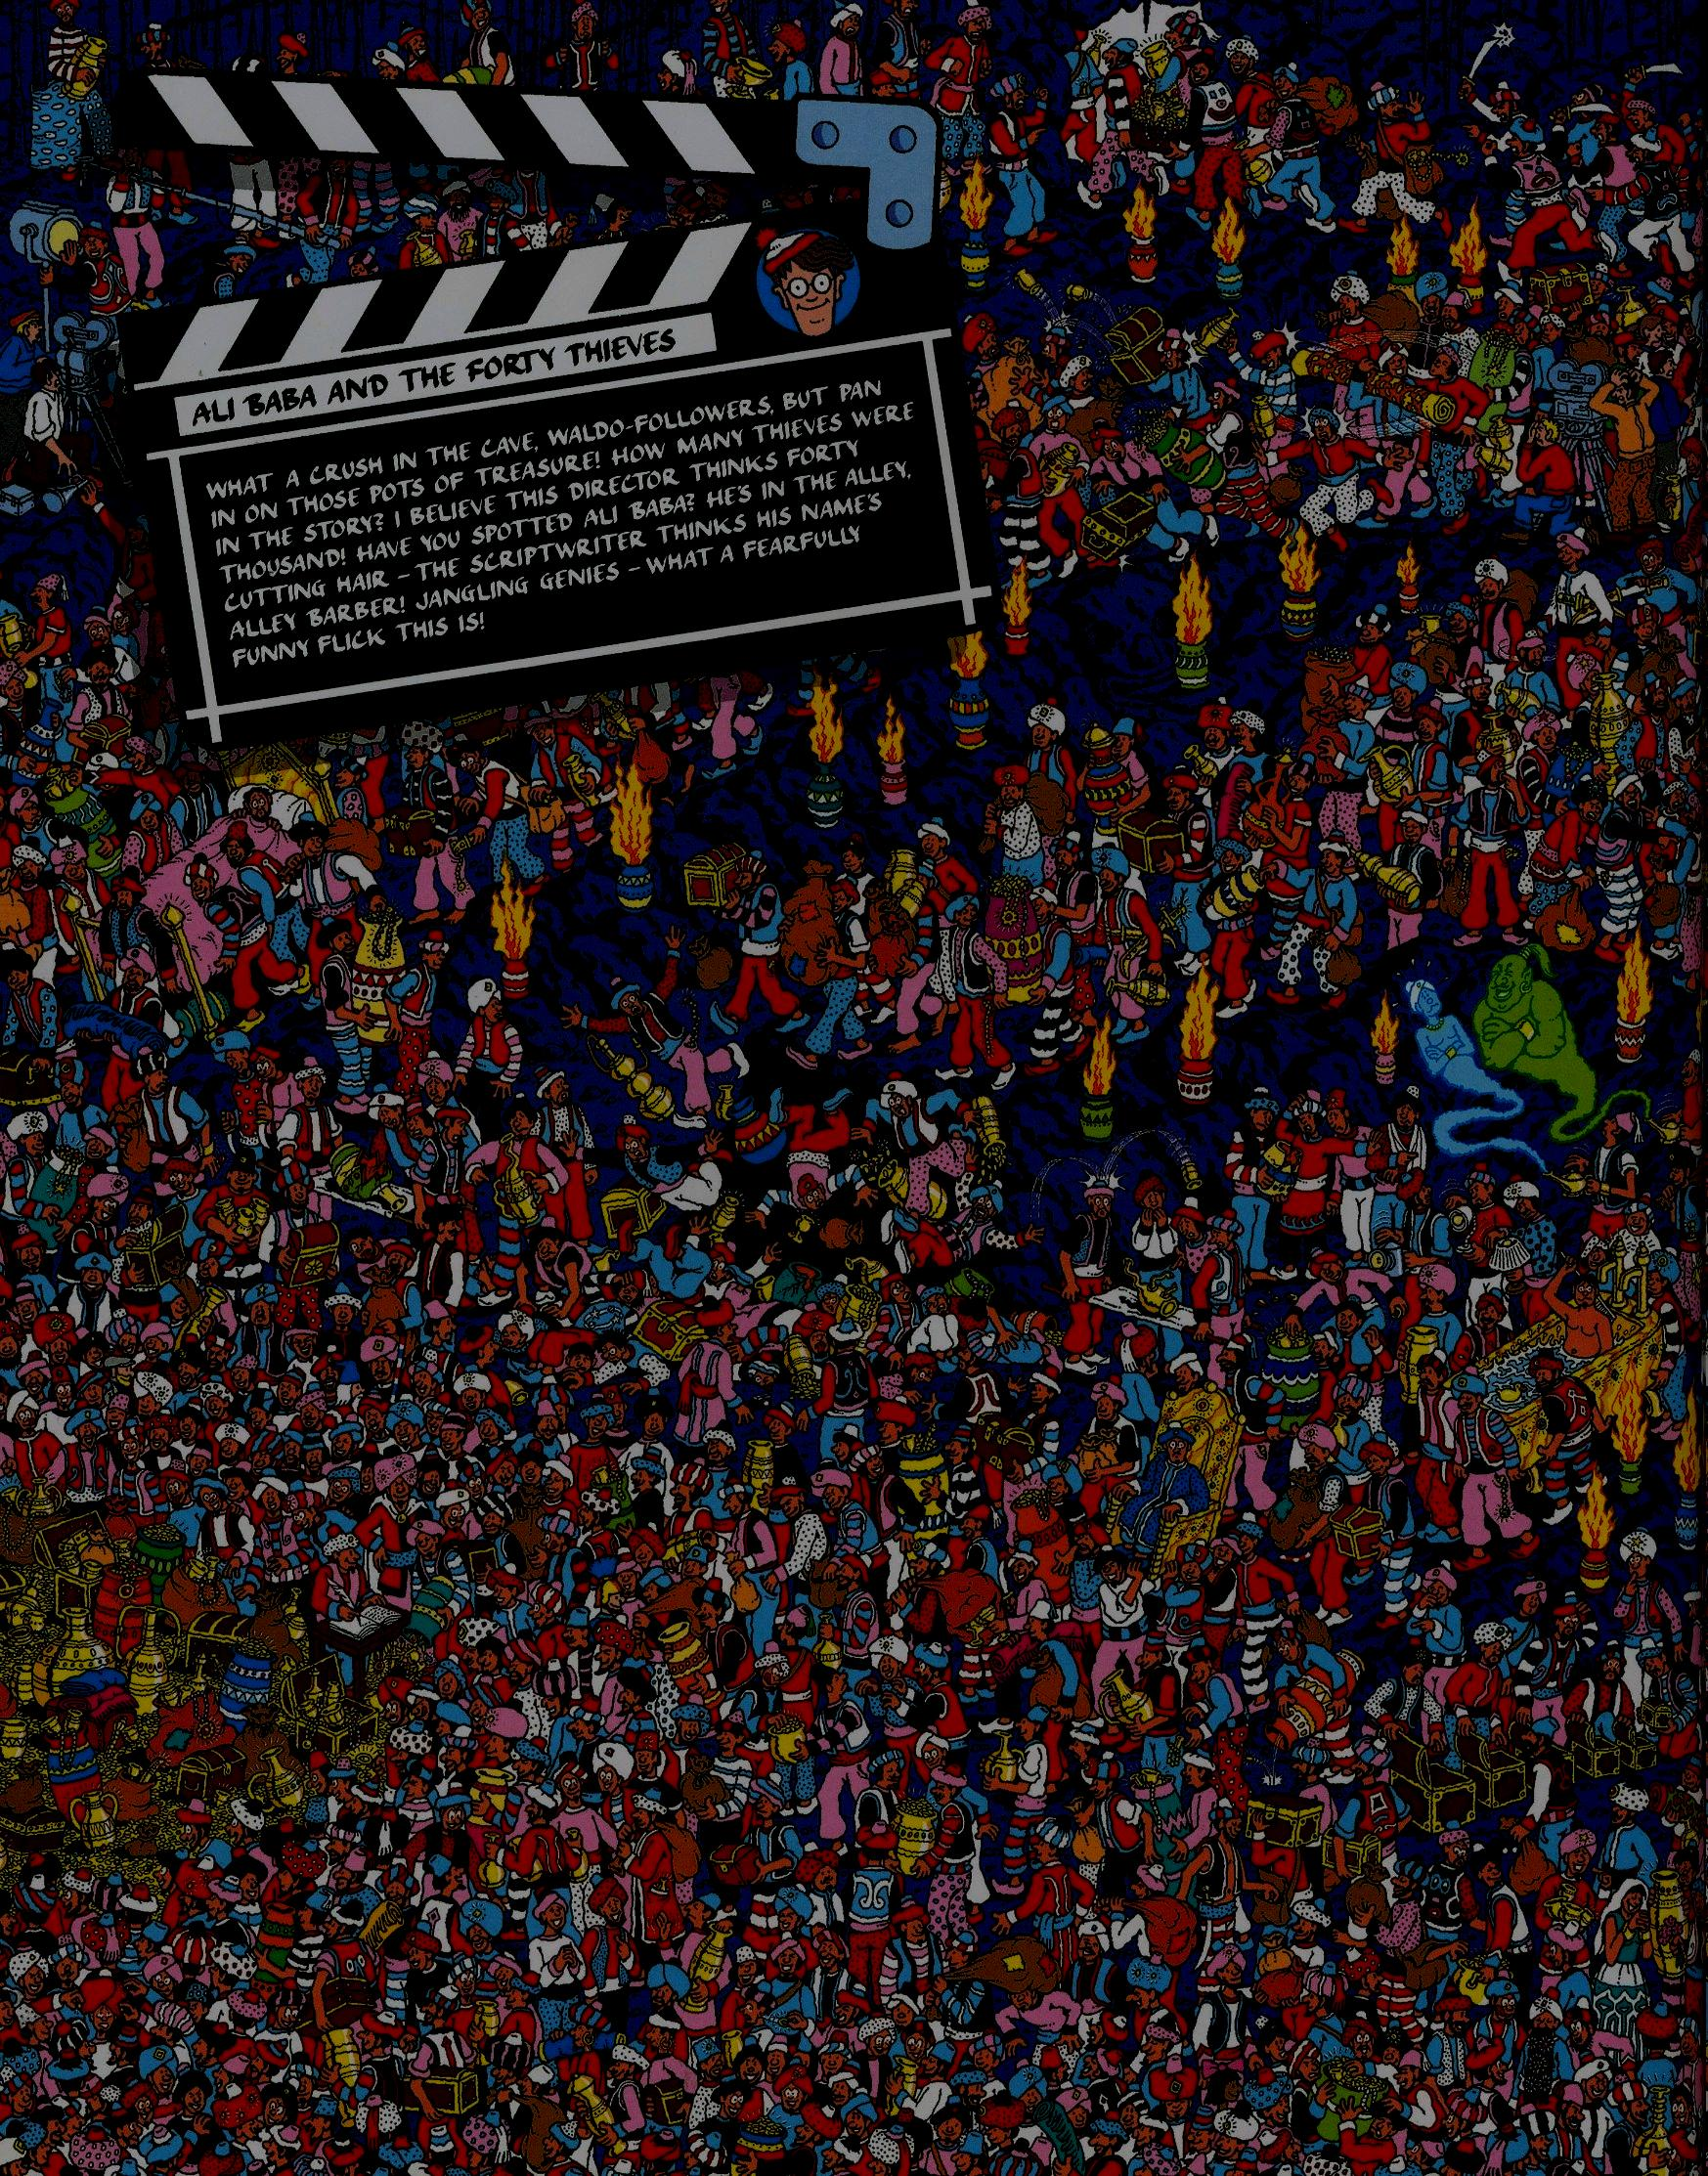waldos: (747, 217, 857, 341)
